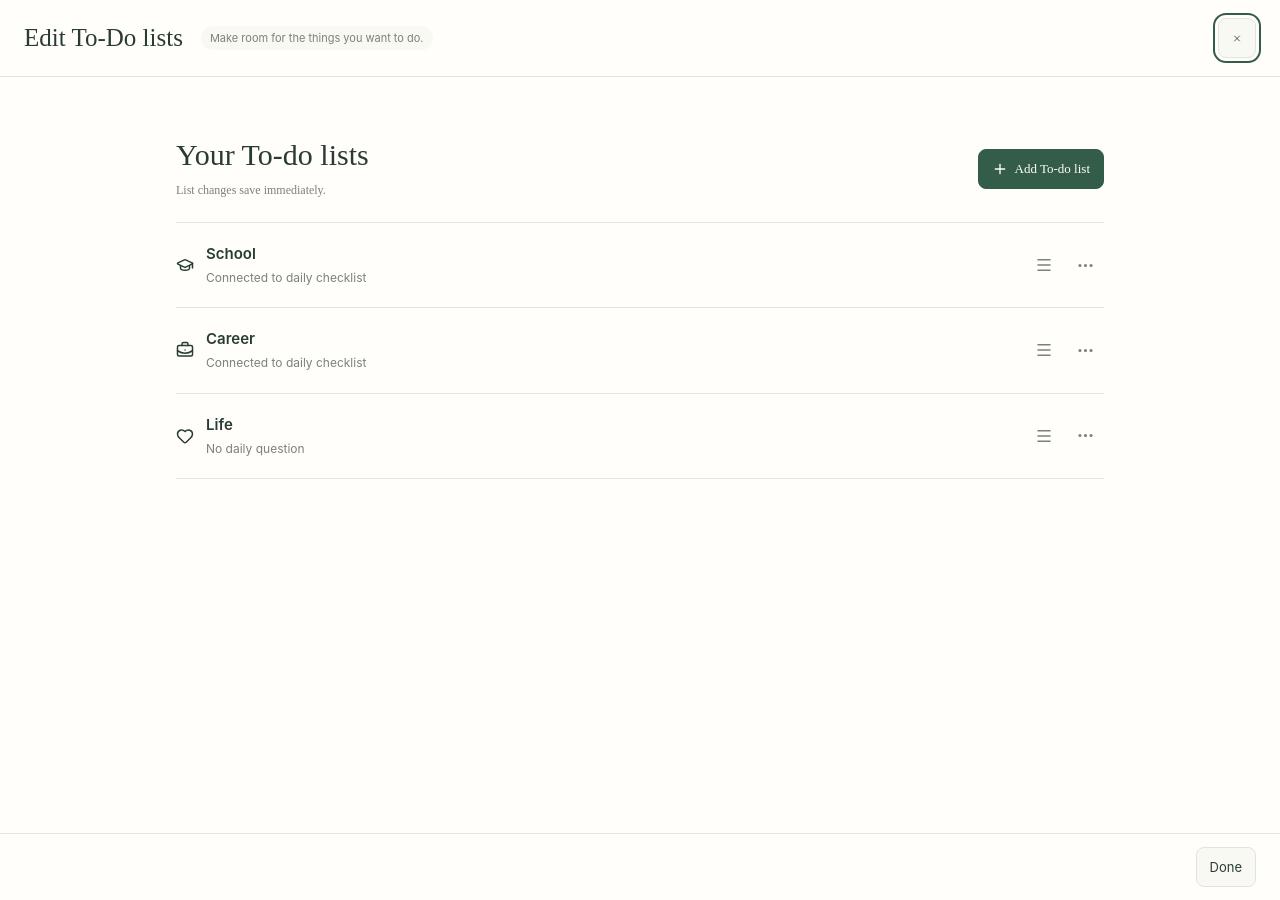
Test case: edits one compact list at a time and saves its stable identity immediately
The width and height of the screenshot is (1280, 900).
Expected: the field labelled "List title" is not shown
Click the button with aria-label "Edit School": (231, 254) [206,231,1014,299]
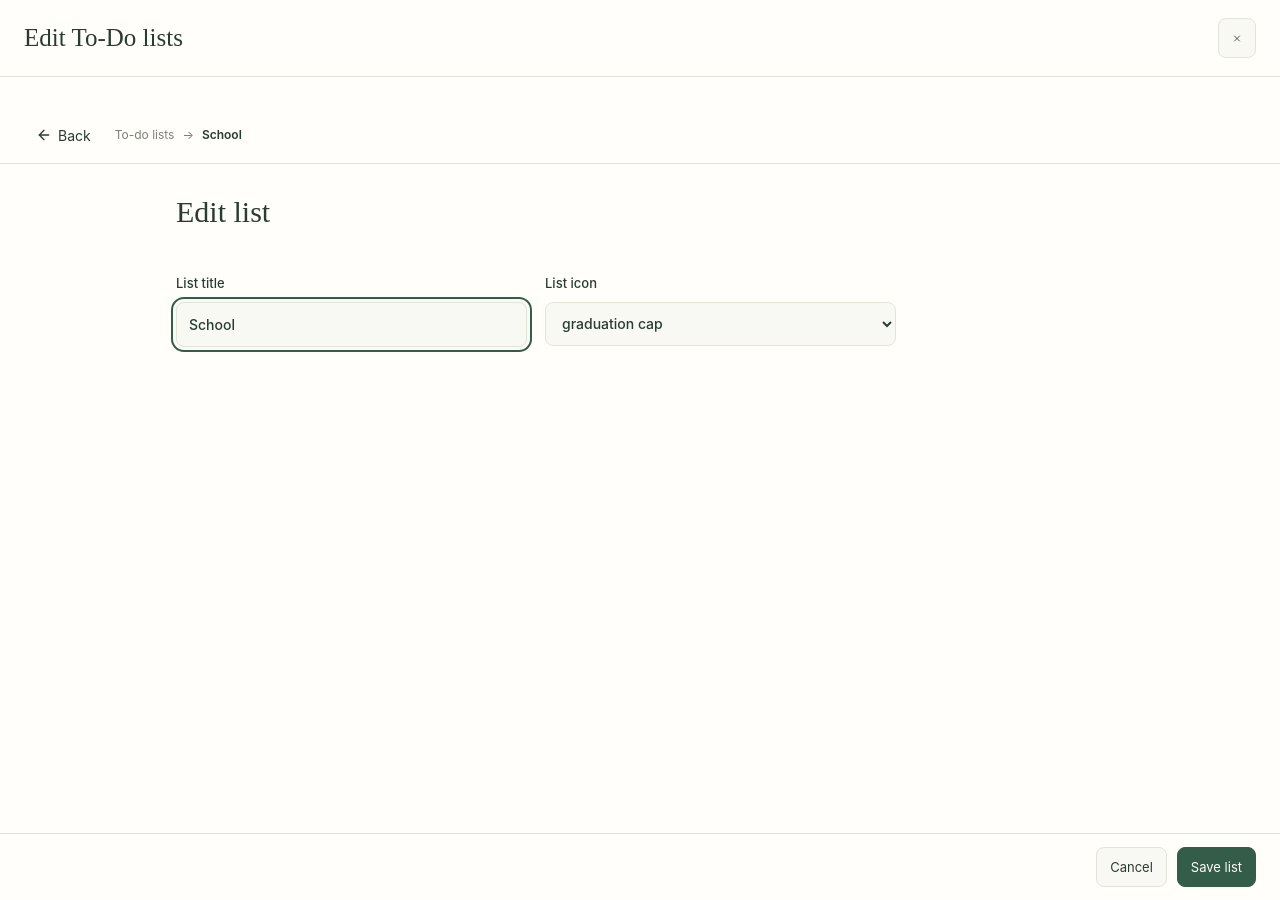
Replace the text in the field labelled "List title" with "Study": (352, 324) [176,302,527,346]
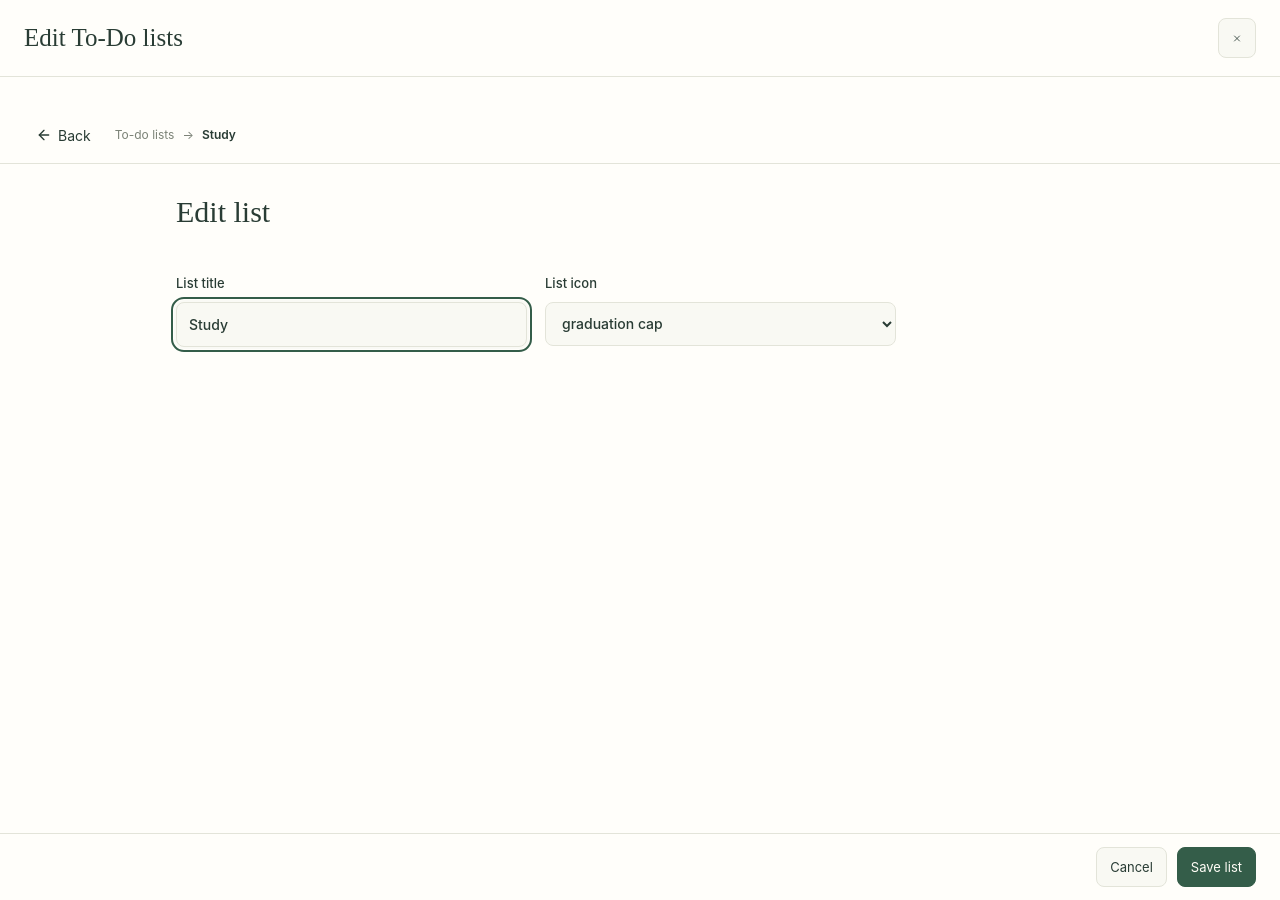
Select "Book" in the dropdown labelled "List icon": (720, 324) [545,302,896,346]
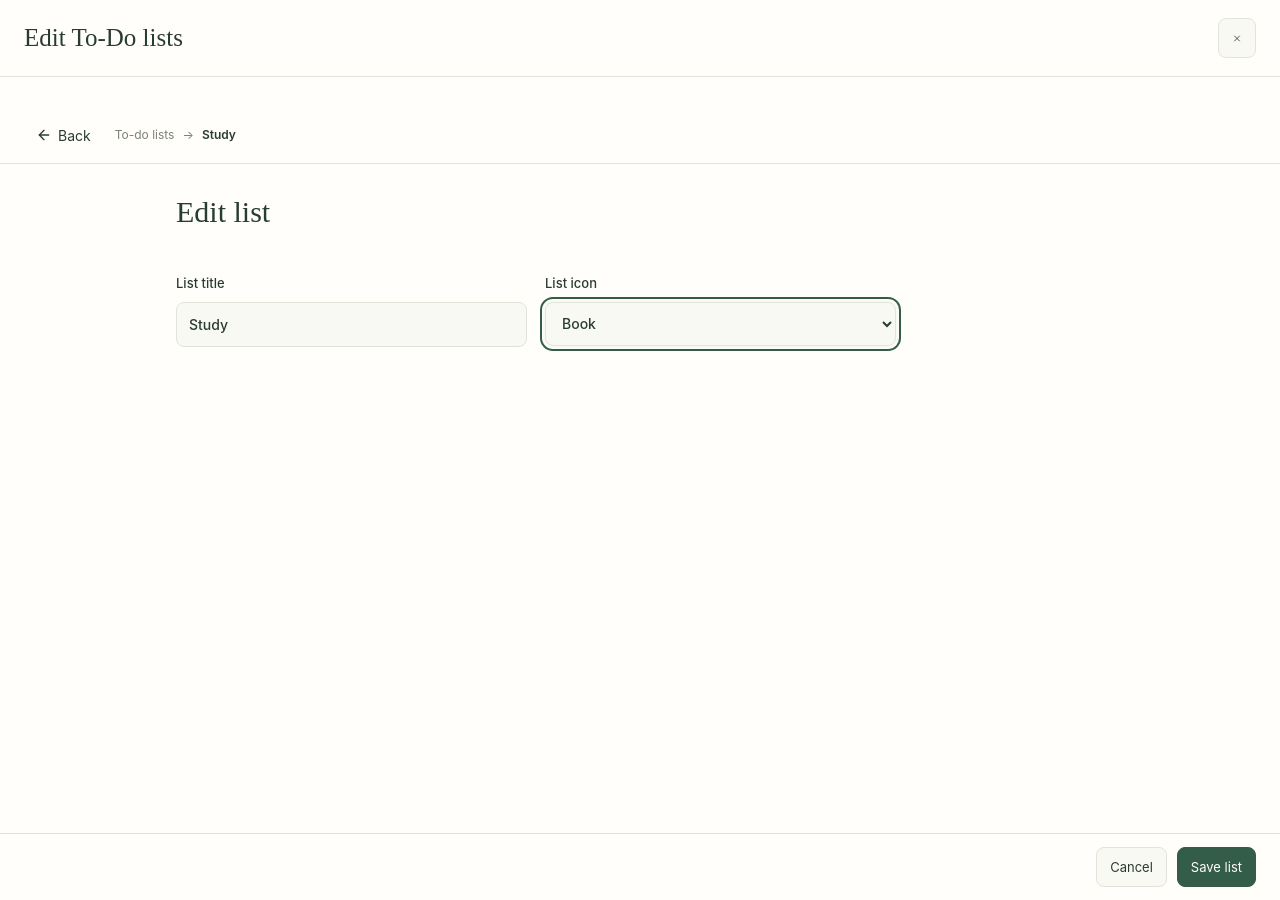
Click the button "Save list": (1216, 867) [1177,847,1256,887]
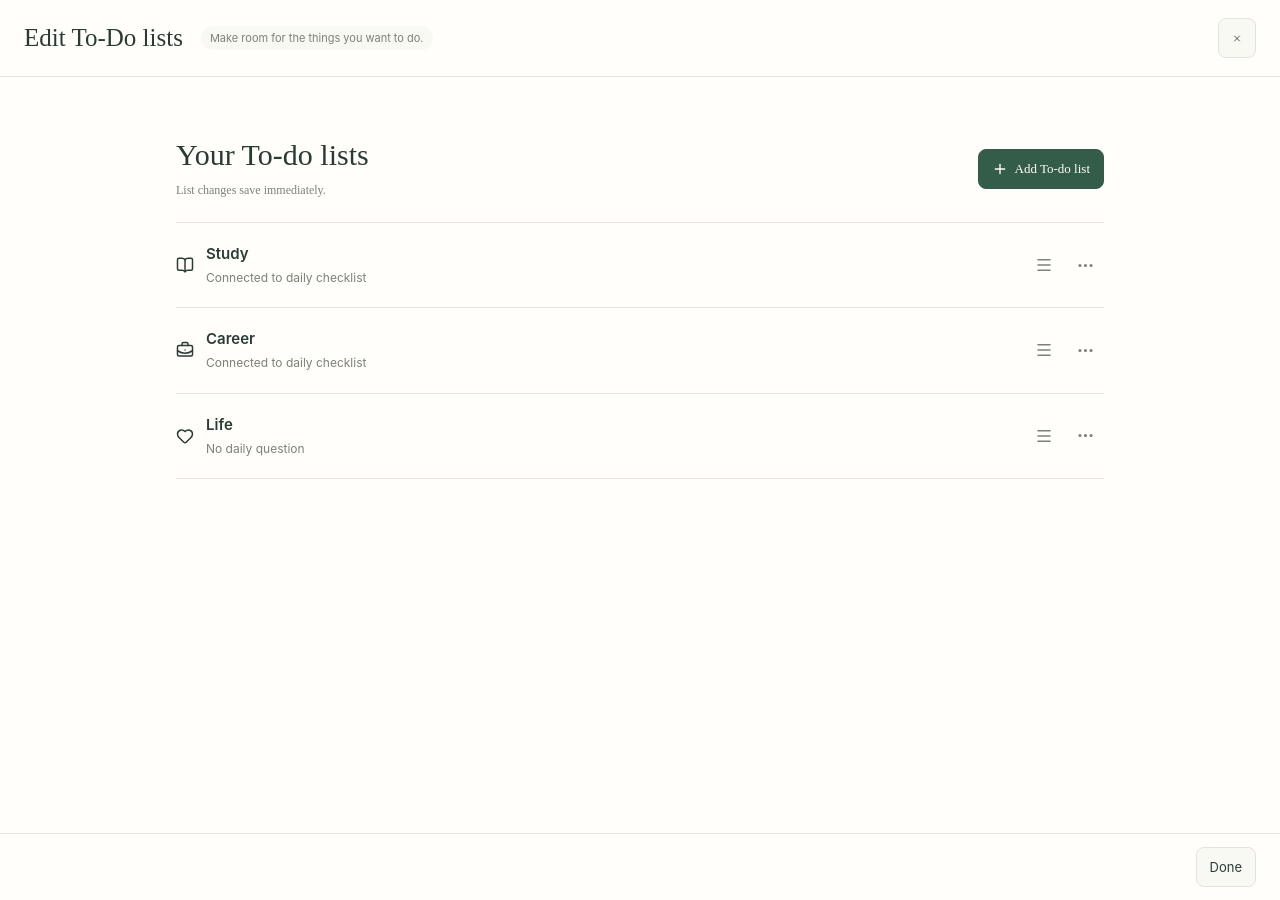
Now the button with aria-label "Edit Study" is shown, box [206,231,1014,299]
Now the text "List title" is gone
